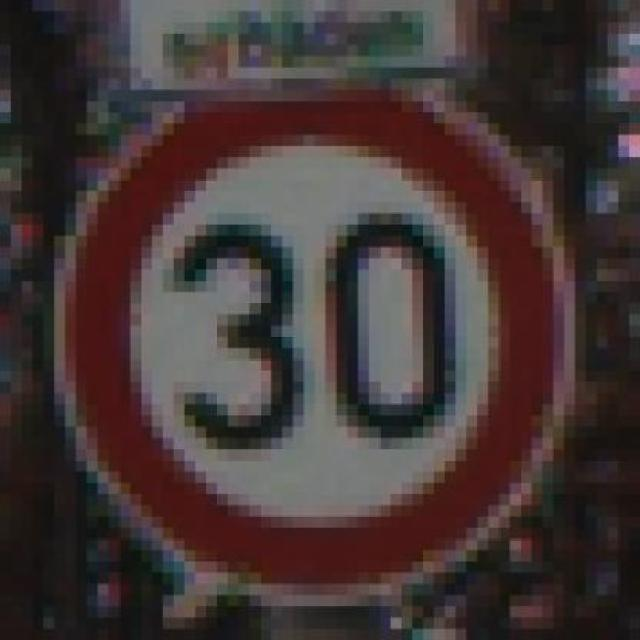Speed Limit 30 KMPh: (11, 79, 618, 596)
